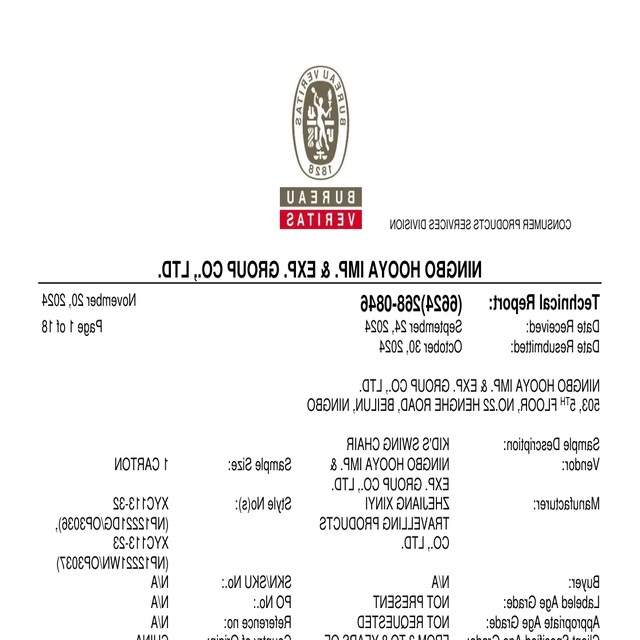bureau_veritas: (278, 62, 365, 232)
